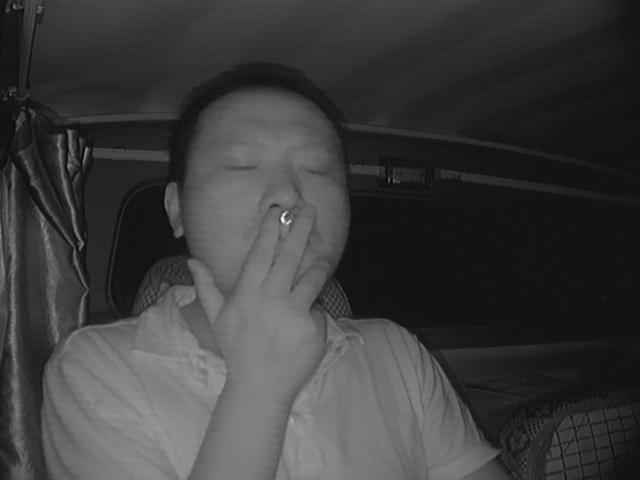hand: (232, 210, 337, 333)
